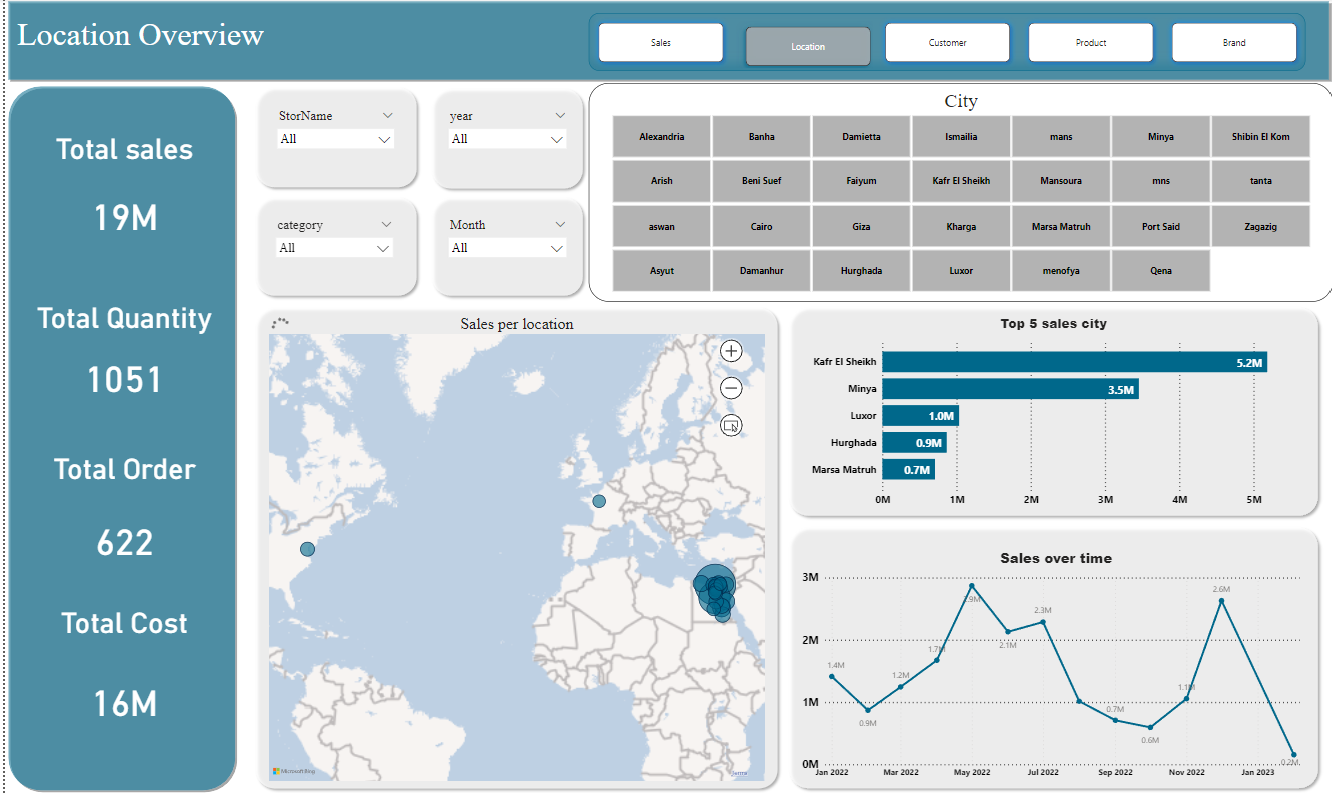

The dashboard page shown, as its layout file describes it:
{"tool":"powerbi","page":{"name":"Location","canvas":[2000,1200],"ordinal":1},"visuals":[{"type":"shape","box":[0,0,2000,128.4],"z":0},{"type":"pageNavigator","box":[880.4,23.2,1080.4,87.5],"z":1000},{"type":"textbox","box":[123.2,19.6,457.1,87.5],"z":2000},{"type":"shape","box":[376.8,125,258.9,167.9],"z":3000},{"type":"shape","box":[634.9,128.1,244.9,167.7],"z":4000},{"type":"shape","box":[634.9,292,244.9,165.8],"z":5000},{"type":"slicer","fields":{"Values":["DimStor.StorName"]},"box":[399.4,162,197.8,98],"z":6000},{"type":"slicer","fields":{"Values":["DimDate.year"]},"box":[657.5,162,199.7,99.8],"z":7000},{"type":"slicer","title":"City","fields":{"Values":["Dimlocation.City"]},"box":[879.7,128.1,1120.9,329.7],"z":8000},{"type":"shape","box":[369.2,292,260,165.8],"z":9000},{"type":"slicer","fields":{"Values":["DimDate.orderDate.Variation.Date Hierarchy.Month"]},"box":[657.5,325.9,199.7,98],"z":10000},{"type":"shape","box":[369.2,457.8,804.4,742.2],"z":11000},{"type":"map","title":"Sales per location","fields":{"Category":["Dimlocation.City"],"Size":["Sum(FOrder.total_price)"]},"box":[393.7,476.6,755.4,708.3],"z":12000},{"type":"slicer","fields":{"Values":["Dimproduct.category"]},"box":[397.5,325.9,197.8,98],"z":13000},{"type":"shape","box":[1173.6,457.8,813.8,331.6],"z":14000},{"type":"clusteredBarChart","title":"Top 5 sales city","fields":{"Category":["Dimlocation.City"],"Y":["Sum(FOrder.total_price)"]},"box":[1209.4,476.6,742.2,299.5],"z":15000},{"type":"shape","box":[0,128.6,351.8,1071.4],"z":16000},{"type":"shape","box":[1173.6,789.3,813.8,410.7],"z":17000},{"type":"lineChart","title":"Sales over time ","fields":{"Y":["Sum(FOrder.total_price)"],"Category":["DimDate.orderDate.Variation.Date Hierarchy.Year","DimDate.orderDate.Variation.Date Hierarchy.Quarter","DimDate.orderDate.Variation.Date Hierarchy.Month"]},"box":[1196.2,828.9,776.1,356],"z":18000},{"type":"card","fields":{"Values":["Sum(FOrder.total_price)"]},"box":[29.8,275,300,96.4],"z":19000},{"type":"card","fields":{"Values":["Sum(FOrder.Quantity)"]},"box":[29.8,519.6,300,96.4],"z":20000},{"type":"card","fields":{"Values":["Sum(FOrder.sub_total)"]},"box":[30.1,1007.8,299.5,96.1],"z":21000},{"type":"card","fields":{"Values":["CountNonNull(FOrder.Order ID)"]},"box":[29.8,764.3,300,96.4],"z":22000},{"type":"textbox","box":[29.8,198.2,300,67.9],"z":23000},{"type":"textbox","box":[29.8,451.8,300,67.9],"z":24000},{"type":"textbox","box":[29.8,680.4,300,67.9],"z":25000},{"type":"textbox","box":[29.8,912.5,300,80.4],"z":26000},{"type":"image","box":[0,1.8,101.8,108.9],"z":26001}]}

Visuals, with their boxes in screenshot pixels (x1, y1, x2, y2), scaled from the page's 2000x1200 canvas onto the 1332x793 screenshot:
shape: locate(0, 0, 1331, 85)
pageNavigator: locate(586, 15, 1306, 73)
textbox: locate(82, 13, 386, 71)
shape: locate(251, 83, 423, 194)
shape: locate(423, 85, 586, 195)
shape: locate(423, 193, 586, 303)
slicer - DimStor.StorName: locate(266, 107, 398, 172)
slicer - DimDate.year: locate(438, 107, 571, 173)
"City" slicer: locate(586, 85, 1331, 303)
shape: locate(246, 193, 419, 303)
slicer - DimDate.orderDate.Variation.Date Hierarchy.Month: locate(438, 215, 571, 280)
shape: locate(246, 303, 782, 792)
"Sales per location" map: locate(262, 315, 765, 783)
slicer - Dimproduct.category: locate(265, 215, 396, 280)
shape: locate(782, 303, 1324, 522)
"Top 5 sales city" clusteredBarChart: locate(805, 315, 1300, 513)
shape: locate(0, 85, 234, 792)
shape: locate(782, 522, 1324, 792)
"Sales over time " lineChart: locate(797, 548, 1314, 783)
card - Sum(FOrder.total_price): locate(20, 182, 220, 245)
card - Sum(FOrder.Quantity): locate(20, 343, 220, 407)
card - Sum(FOrder.sub_total): locate(20, 666, 220, 729)
card - CountNonNull(FOrder.Order ID): locate(20, 505, 220, 569)
textbox: locate(20, 131, 220, 176)
textbox: locate(20, 299, 220, 343)
textbox: locate(20, 450, 220, 495)
textbox: locate(20, 603, 220, 656)
image: locate(0, 1, 68, 73)
